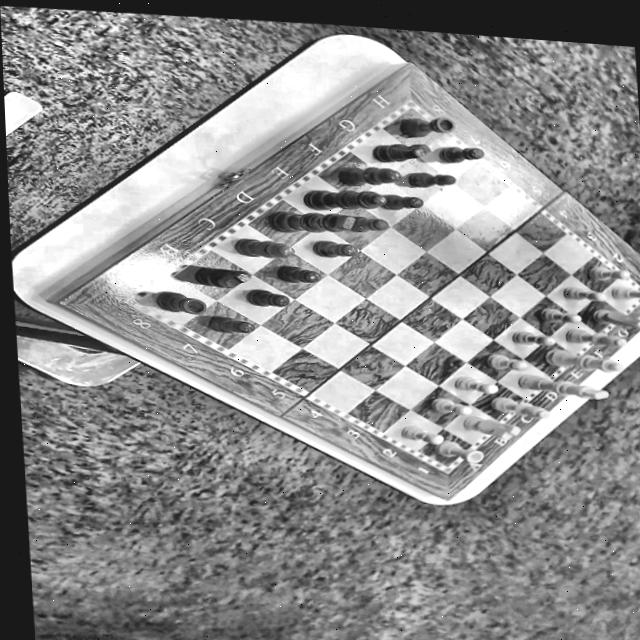chessboard: (135, 107, 640, 467)
